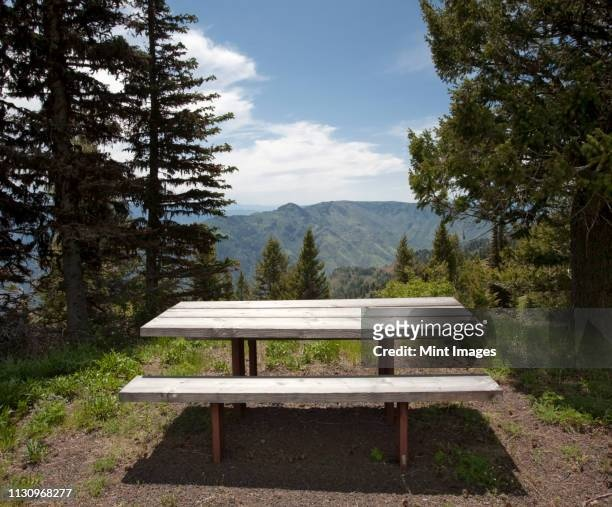obstacle: (120, 297, 500, 469)
